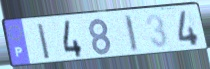3: (145, 12, 169, 50)
4: (62, 18, 85, 59), (177, 9, 201, 48)
8: (87, 17, 113, 56)
I: (123, 13, 140, 54), (36, 22, 53, 62)
